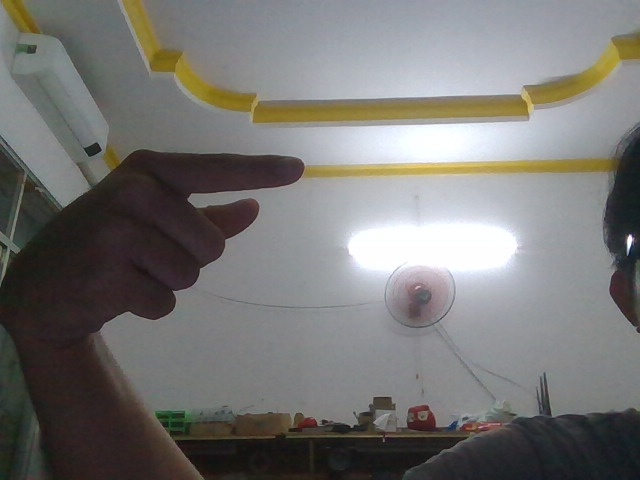turn_left: (1, 148, 310, 348)
